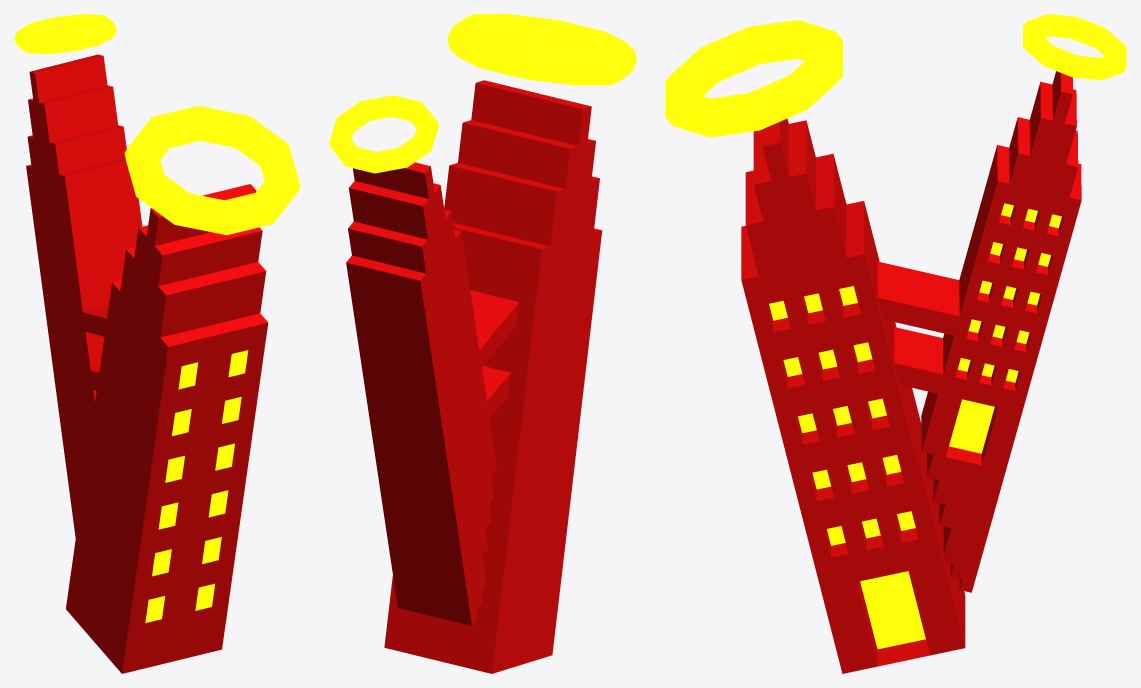
The model's file is BuildingsRed.fbx.
3 renders of one model, left to right at view 1: azimuth 30°, elevation 25°; view 2: azimuth 150°, elevation 25°; view 3: azimuth 270°, elevation 25°, orthographic. The views are drawn at different scales.
Visible parts, largest first — view 1: JoinedBuildings, Rings; view 2: JoinedBuildings, Rings; view 3: JoinedBuildings, Rings.
Boxes of the visible parts, x1,y1,x2,y2 form: JoinedBuildings: (26,54,268,673); Rings: (14,14,300,235); JoinedBuildings: (346,80,602,673); Rings: (329,14,636,173); JoinedBuildings: (741,71,1081,673); Rings: (665,14,1126,137).
Bounding box in the file's own units: 484 × 1692 × 1140.
